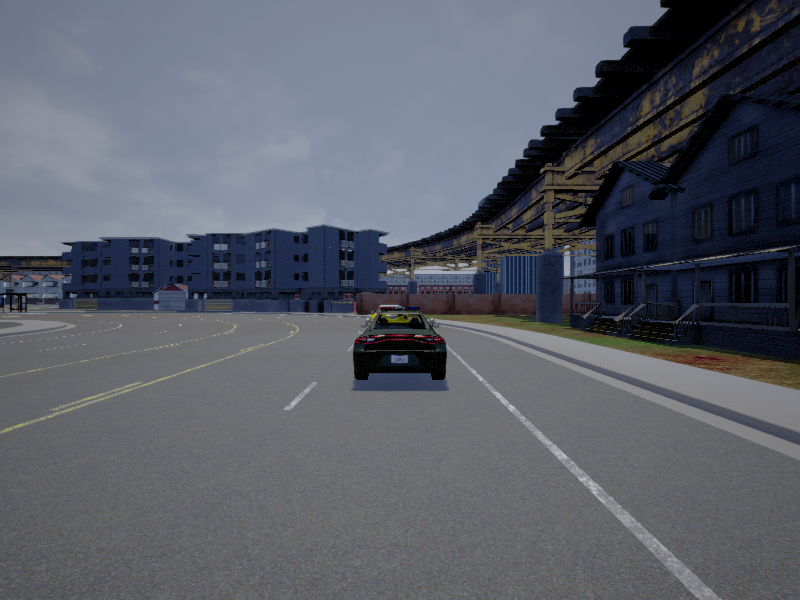Benign: (353, 307, 446, 382)
